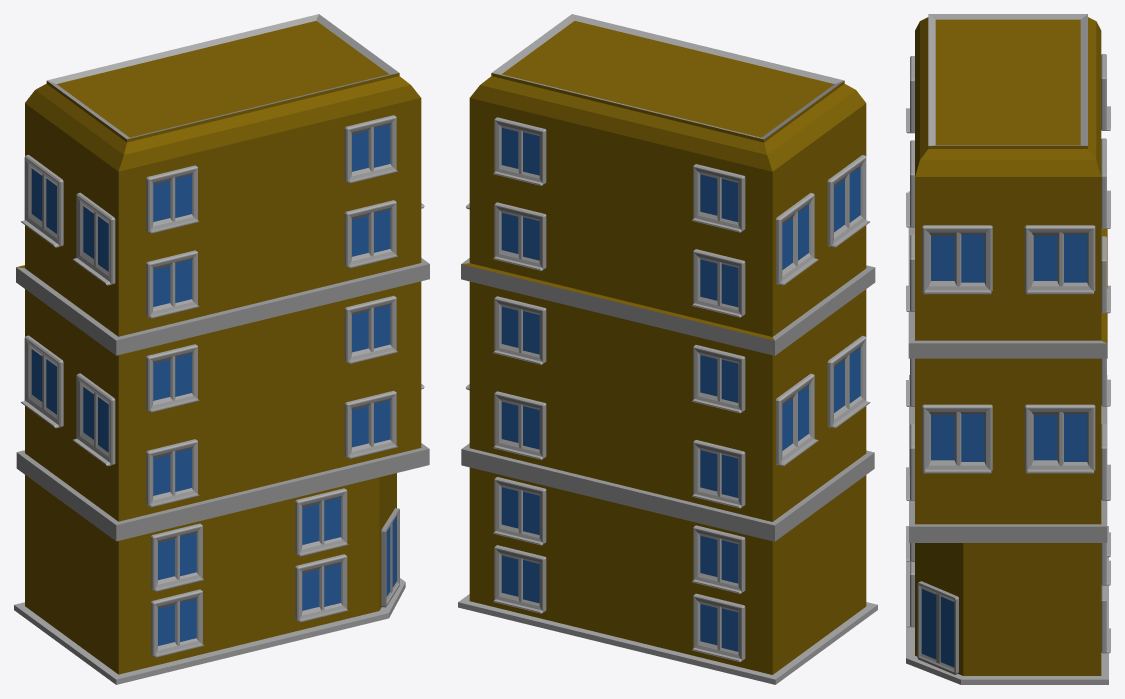
File: brown_building3.glb
The picture shows the model from 3 angles, left to right: view 1: azimuth 30°, elevation 25°; view 2: azimuth 150°, elevation 25°; view 3: azimuth 270°, elevation 25°; orthographic projection.
Parts seen in each view (by area): view 1: BROWN BUILDING3_COLOR.014_0; view 2: BROWN BUILDING3_COLOR.014_0; view 3: BROWN BUILDING3_COLOR.014_0.
Boxes of the visible parts, <box> form: BROWN BUILDING3_COLOR.014_0: <box>14,14,429,684</box>; BROWN BUILDING3_COLOR.014_0: <box>458,14,877,684</box>; BROWN BUILDING3_COLOR.014_0: <box>906,14,1110,684</box>.
Size of the model in its own units: 2.2 by 3.51 by 1.24.
1 material, 1 textured.
